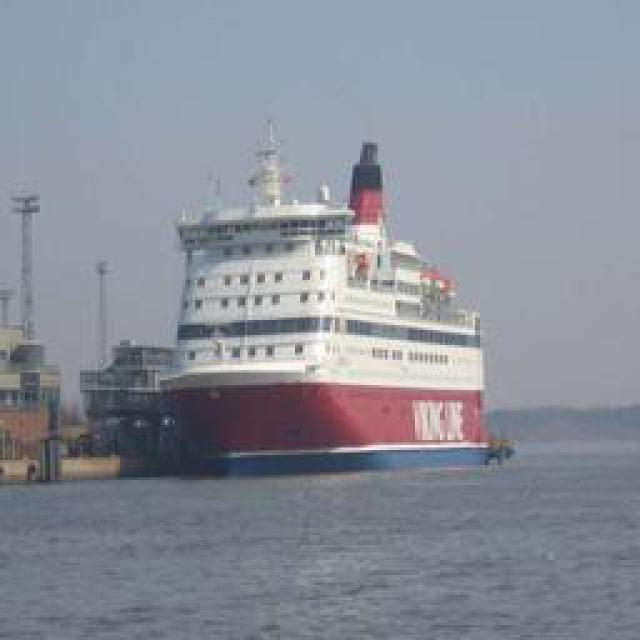Ship: (151, 115, 489, 470)
